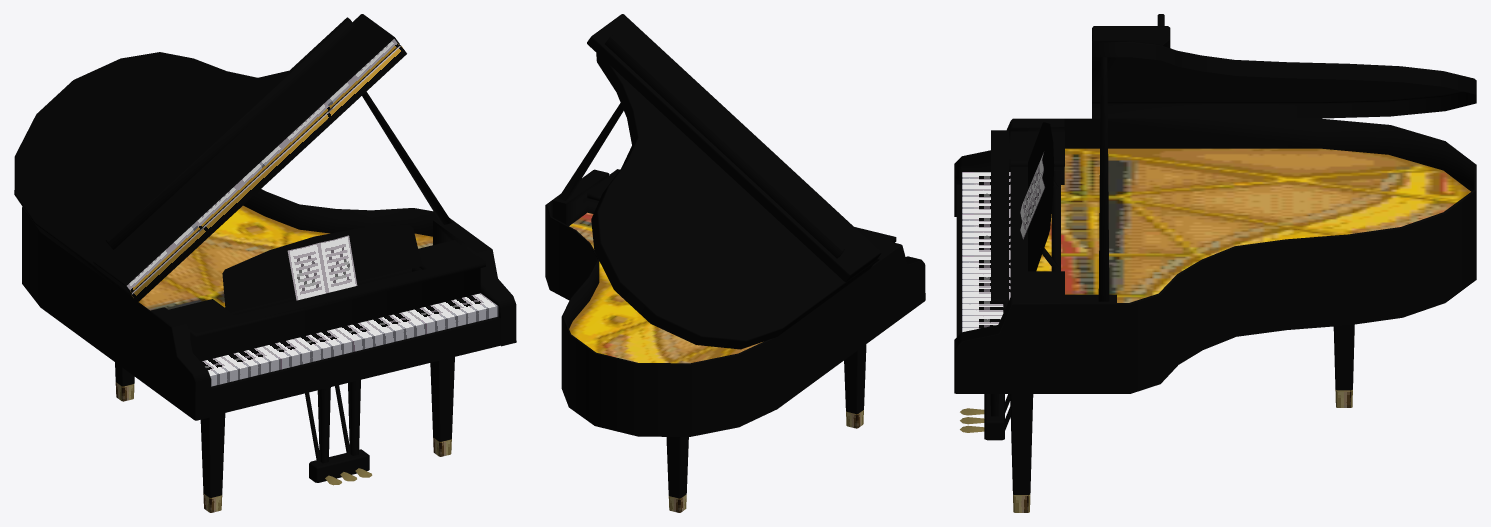
Rendered from rmk_oth_piano_b.dae.
The picture shows the model from 3 angles, left to right: view 1: azimuth 30°, elevation 25°; view 2: azimuth 150°, elevation 25°; view 3: azimuth 270°, elevation 25°; orthographic projection. The views are drawn at different scales.
Parts seen in each view (by area): view 1: vsn_mesh_1_, vsn_mesh_0_, vsn_mesh_2_; view 2: vsn_mesh_1_, vsn_mesh_0_, vsn_mesh_2_; view 3: vsn_mesh_1_, vsn_mesh_0_, vsn_mesh_2_.
Boxes of the visible parts, left/top/right/bottom form: vsn_mesh_1_: left=14, top=14, right=516, bottom=497; vsn_mesh_0_: left=139, top=205, right=432, bottom=310; vsn_mesh_2_: left=115, top=382, right=451, bottom=512; vsn_mesh_1_: left=545, top=14, right=925, bottom=498; vsn_mesh_0_: left=569, top=212, right=762, bottom=363; vsn_mesh_2_: left=668, top=410, right=863, bottom=512; vsn_mesh_1_: left=954, top=14, right=1476, bottom=494; vsn_mesh_0_: left=1036, top=148, right=1470, bottom=302; vsn_mesh_2_: left=960, top=389, right=1352, bottom=512.
Size of the model in its own units: 55.21 by 63.33 by 63.13.
Materials: 3 (3 with a texture image).
